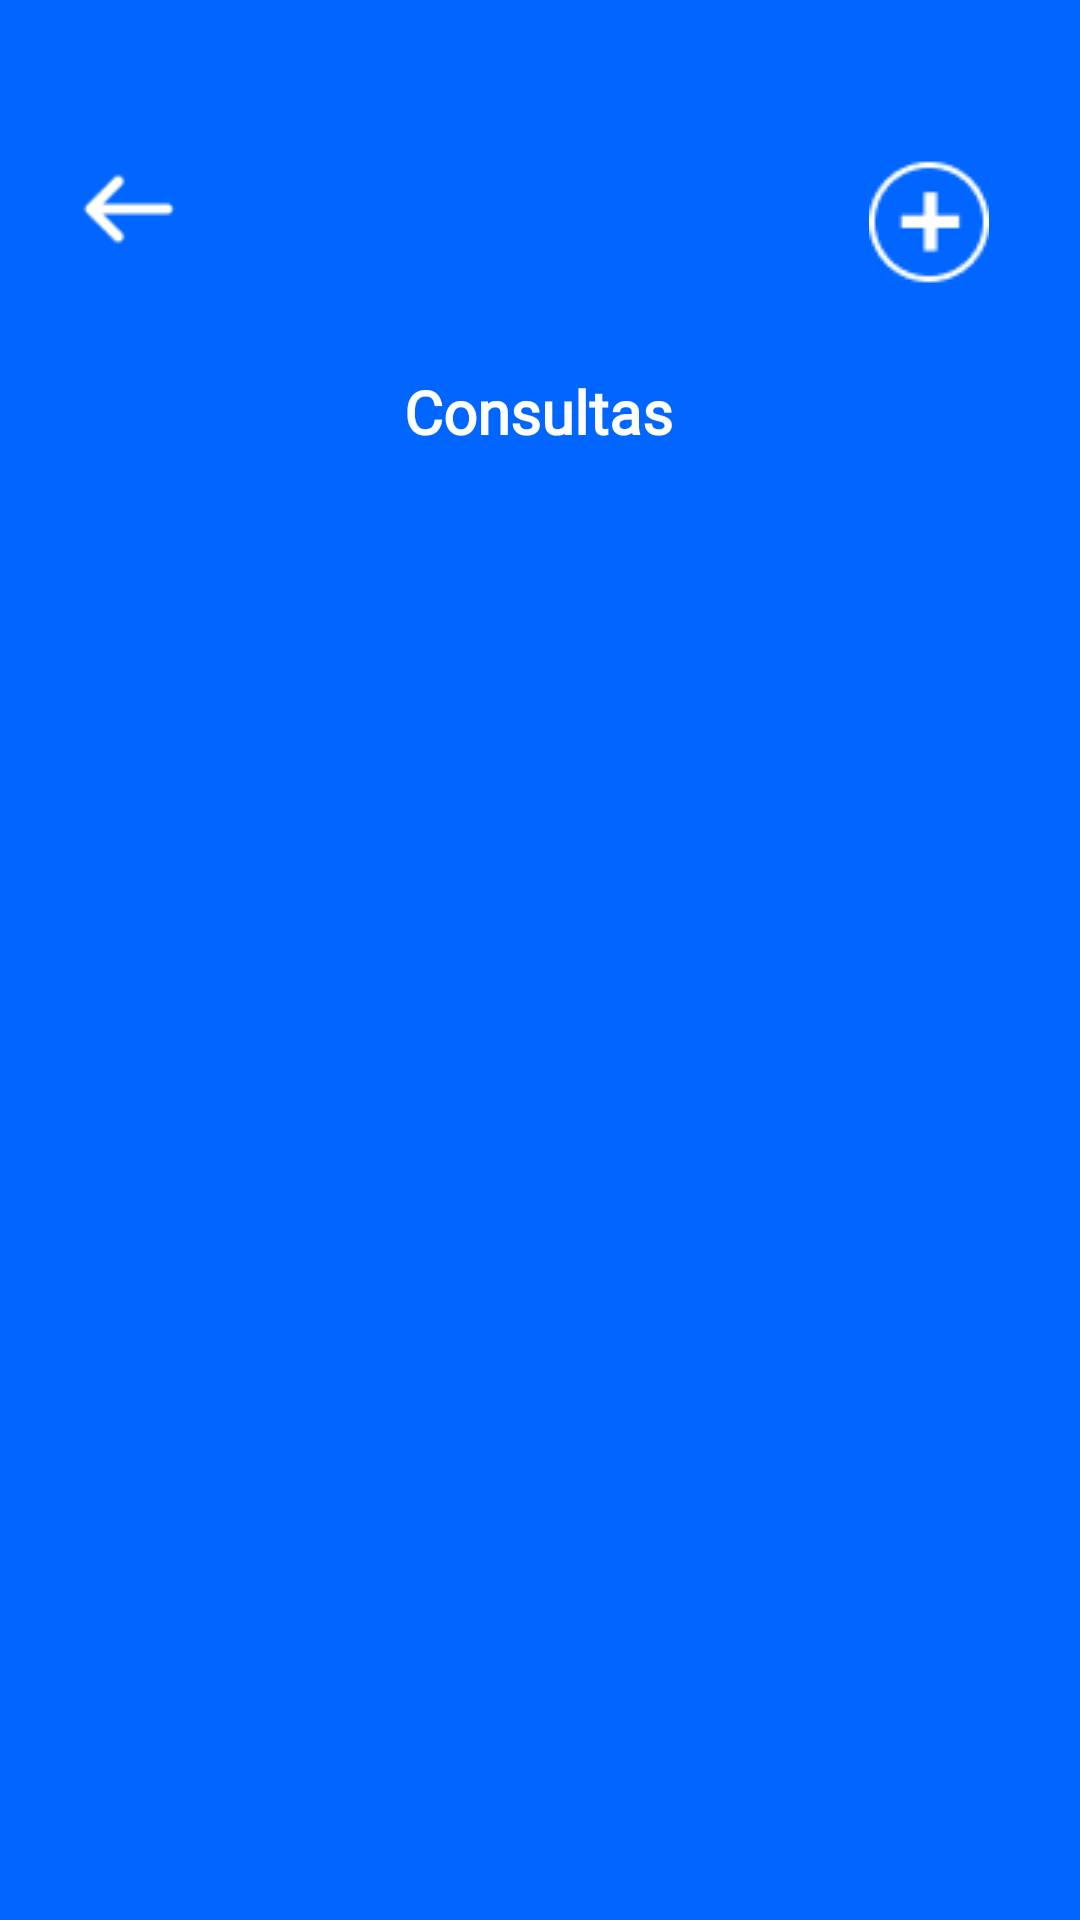

Icons on this 1080×1920 Android screen, each with the point to tap as (x=x, y=y):
mais: (x=929, y=222)
